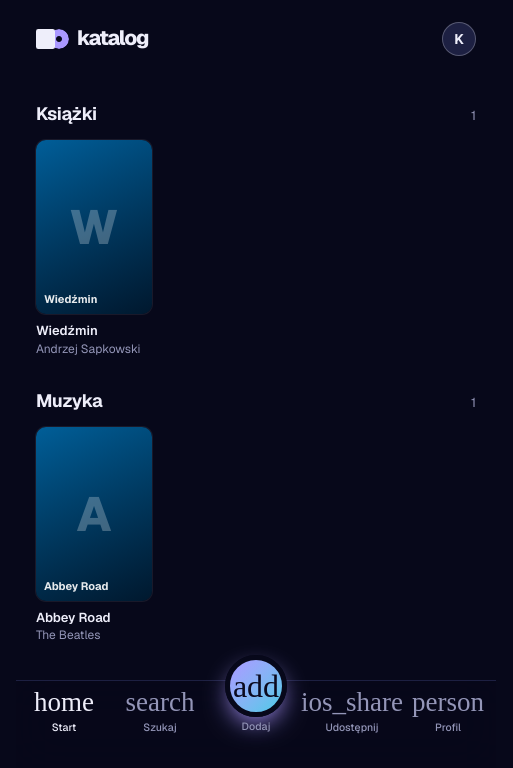
Scenario: Dashboard › keeps the collection private until sharing is turned on, then reveals and copies the link
Expected: the element "Książki" is shown, [16,100,496,360]
Click the button "Udostępnij" at (352, 724), box [304,689,400,760]
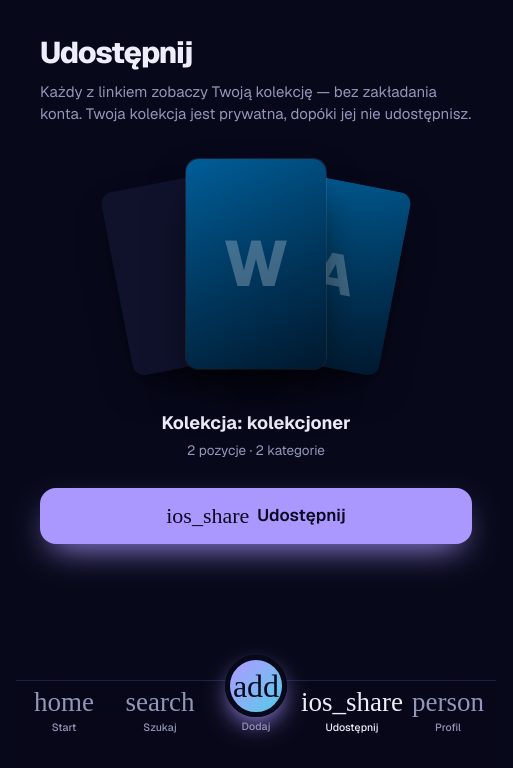
Now the text "Twoja kolekcja jest prywatna, dopóki jej nie udostępnisz" is shown, box [86,104,471,123]
Click the button "Udostępnij" below "2 pozycje · 2 kategorie" at (256, 516), box [40,488,472,544]
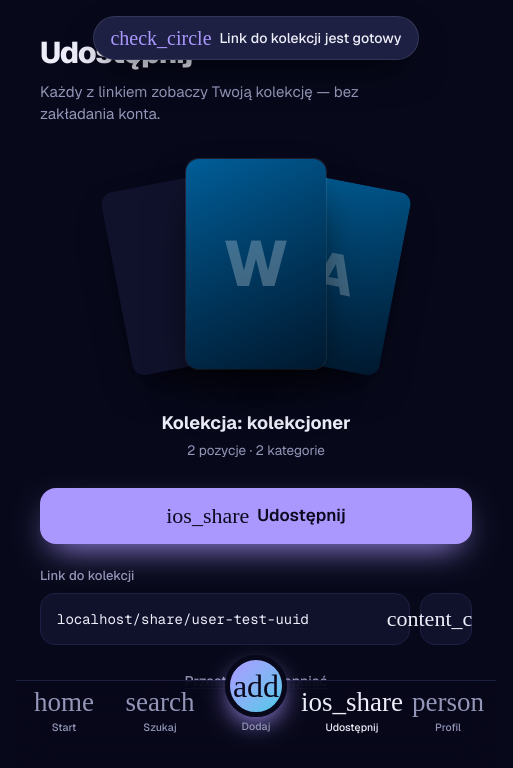
Now the text with test id "share-url" shows "/share/user-test-uuid", box [57,610,309,628]
Click the button named "Kopiuj link" at (446, 619), box [420,593,472,645]
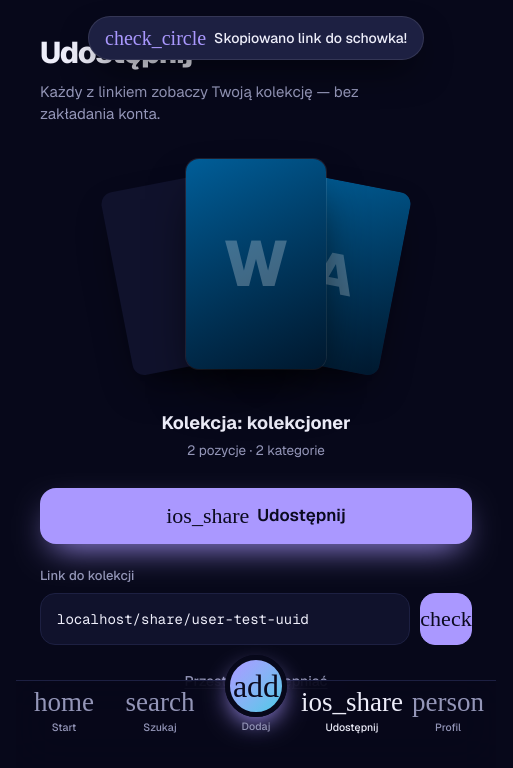
Now the text "Skopiowano link do schowka!" is shown, box [88,16,424,60]
